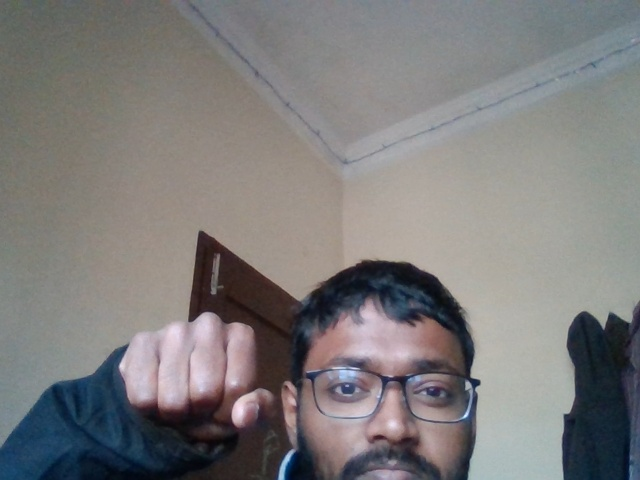yes: (86, 293, 293, 424)
